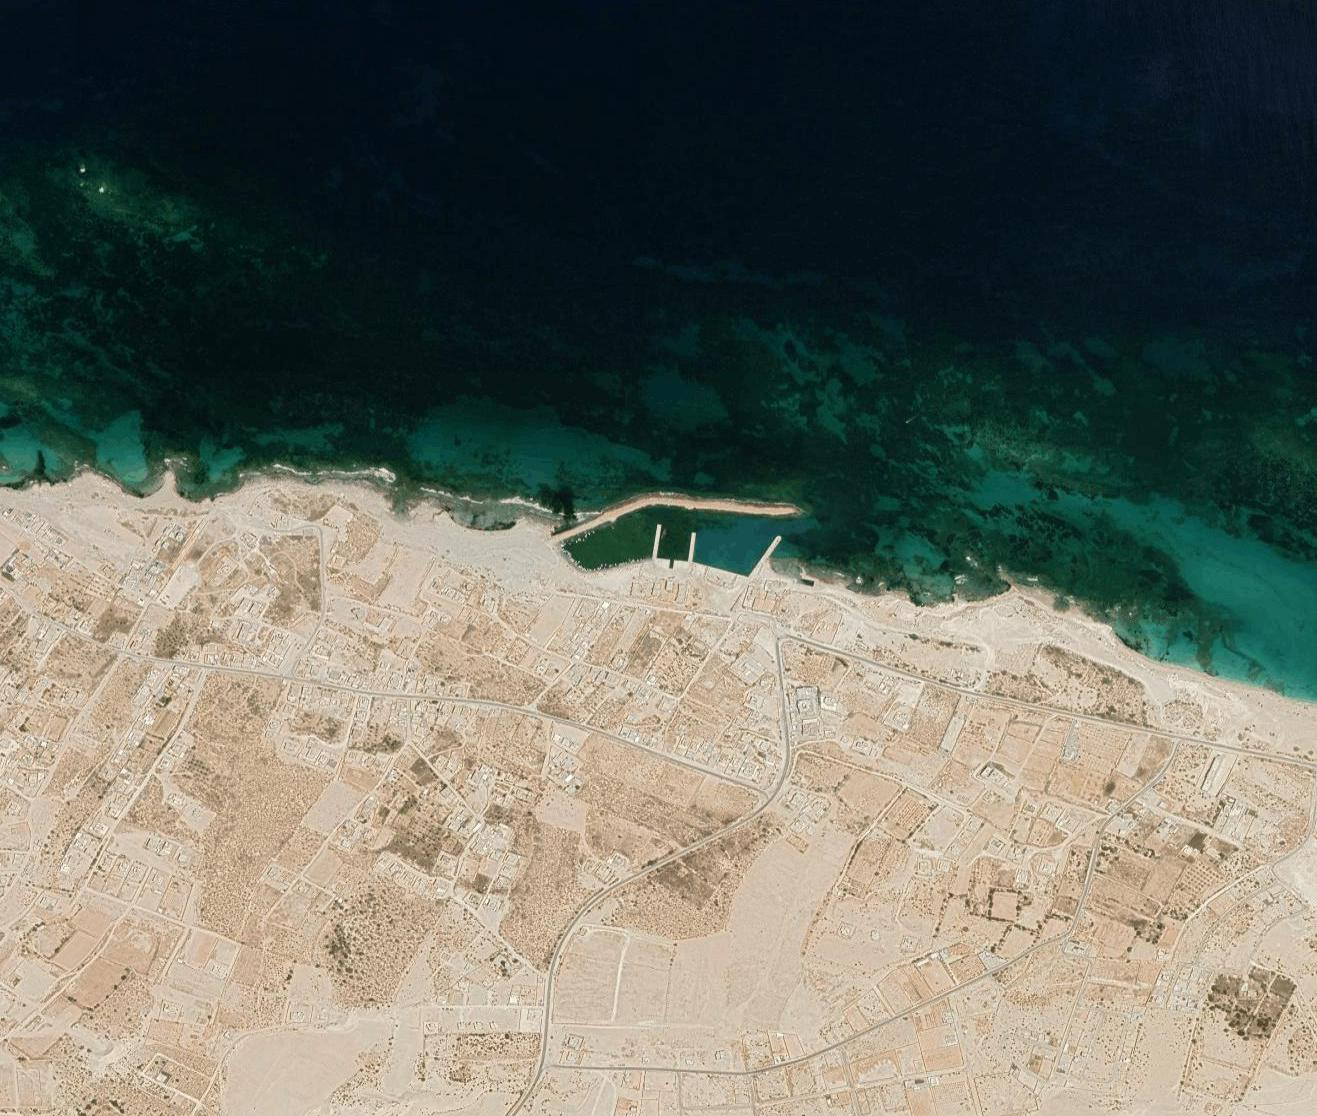harbor: (646, 525, 792, 583)
